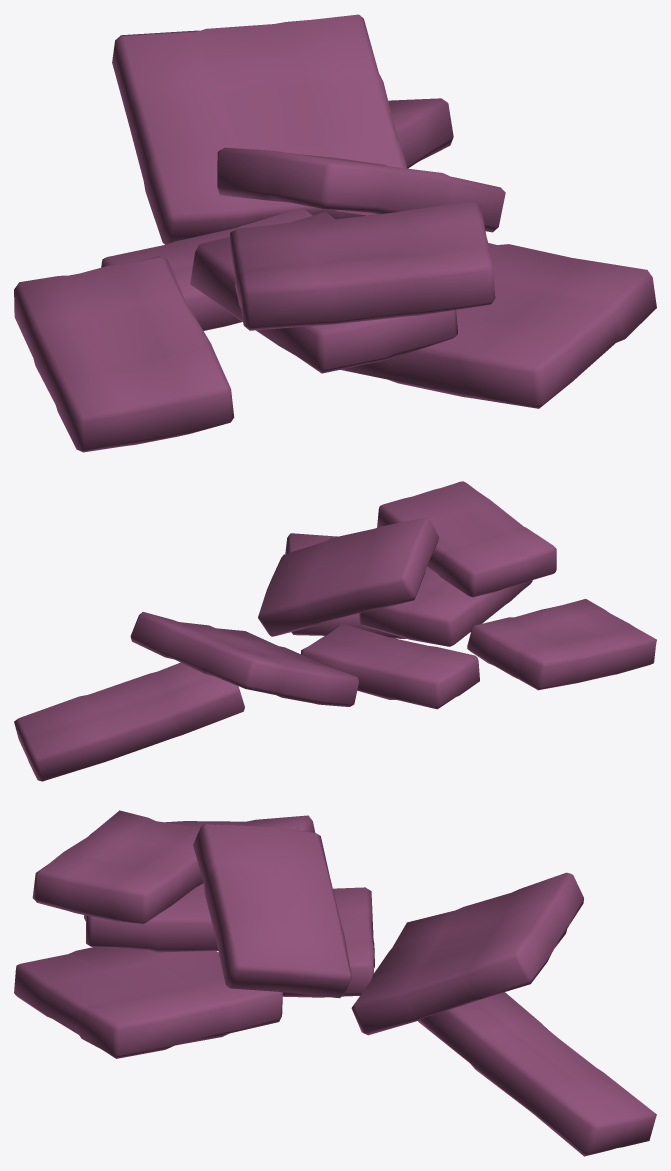
File: SM_stonePile02.fbx
3 views of the same model, one above another, from view 1: azimuth 30°, elevation 25°; view 2: azimuth 150°, elevation 25°; view 3: azimuth 270°, elevation 25° (orthographic). The views are drawn at different scales.
Parts seen in each view (by area): view 1: Plane.027, Plane.031, Plane.014, Plane.028, Plane.026, Plane.029, Plane.013, Plane.030; view 2: Plane.030, Plane.026, Plane.031, Plane.014, Plane.027, Plane.013, Plane.029, Plane.028; view 3: Plane.026, Plane.028, Plane.027, Plane.030, Plane.014, Plane.029, Plane.013, Plane.031.
Part boxes in pixels (x1=…): Plane.027: x1=112, y1=14, x2=407, y2=244; Plane.031: x1=14, y1=256, x2=234, y2=452; Plane.014: x1=230, y1=201, x2=495, y2=330; Plane.028: x1=340, y1=243, x2=656, y2=408; Plane.026: x1=217, y1=147, x2=505, y2=232; Plane.029: x1=190, y1=212, x2=457, y2=373; Plane.013: x1=101, y1=207, x2=313, y2=330; Plane.030: x1=388, y1=98, x2=453, y2=168; Plane.030: x1=14, y1=662, x2=244, y2=781; Plane.026: x1=258, y1=517, x2=439, y2=636; Plane.031: x1=467, y1=599, x2=656, y2=690; Plane.014: x1=377, y1=481, x2=556, y2=597; Plane.027: x1=130, y1=612, x2=358, y2=706; Plane.013: x1=301, y1=623, x2=479, y2=709; Plane.029: x1=359, y1=567, x2=532, y2=646; Plane.028: x1=285, y1=533, x2=406, y2=638; Plane.026: x1=193, y1=823, x2=351, y2=998; Plane.028: x1=14, y1=947, x2=282, y2=1058; Plane.027: x1=351, y1=872, x2=583, y2=1035; Plane.030: x1=418, y1=992, x2=656, y2=1156; Plane.014: x1=32, y1=810, x2=203, y2=923; Plane.029: x1=84, y1=883, x2=218, y2=952; Plane.013: x1=282, y1=887, x2=374, y2=997; Plane.031: x1=166, y1=815, x2=315, y2=832.
Size of the model in its own units: 443 by 167 by 474.
